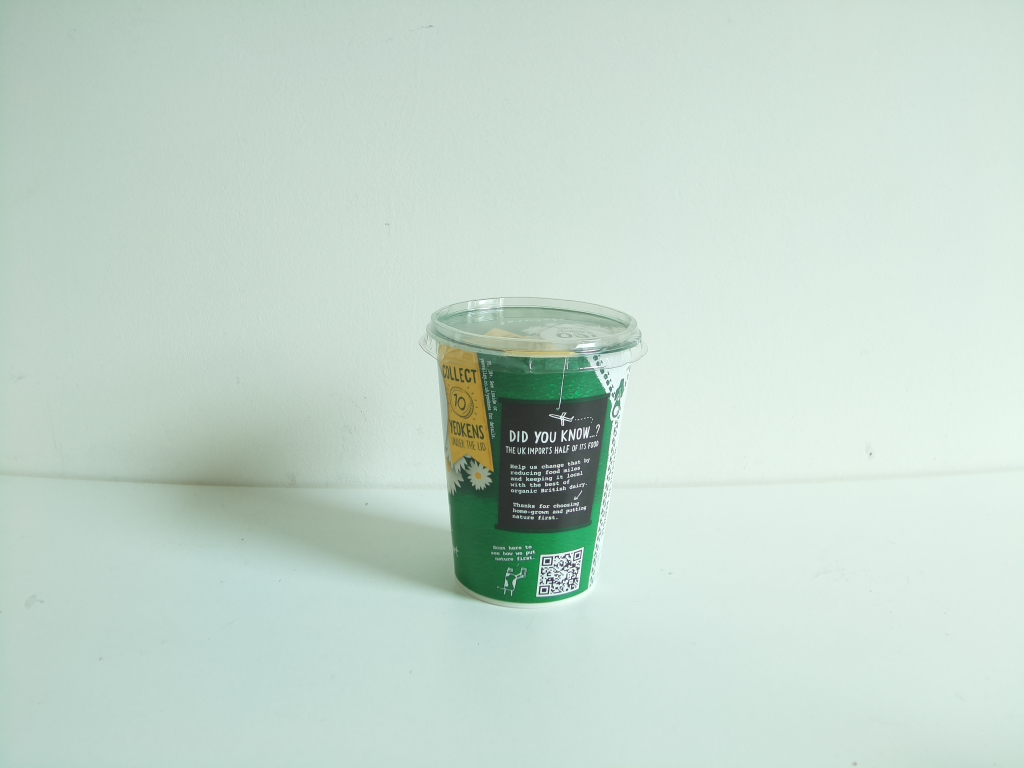yogurt: (417, 291, 642, 621)
